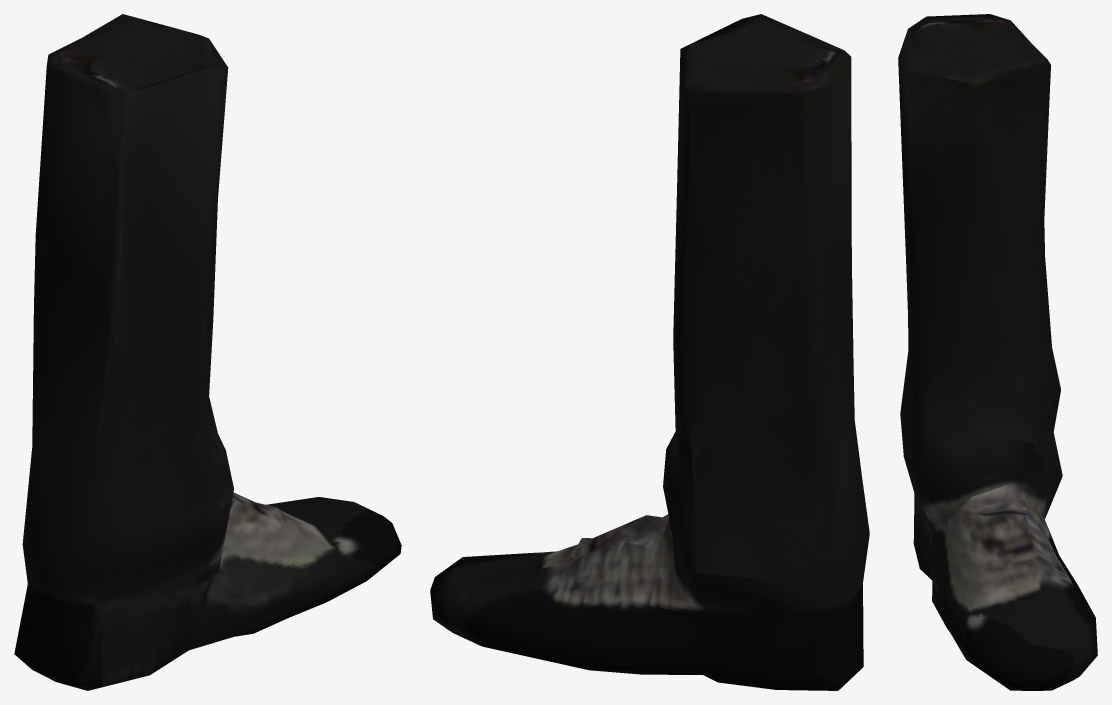
File: rodilla-izquierda-ca.obj
3 renders of one model, left to right at view 1: azimuth 30°, elevation 25°; view 2: azimuth 150°, elevation 25°; view 3: azimuth 270°, elevation 25°, orthographic. The views are drawn at different scales.
Visible parts, largest first — view 1: model.059; view 2: model.059; view 3: model.059.
Part boxes in pixels (left/top/right/bottom): model.059: left=14, top=14, right=401, bottom=690; model.059: left=430, top=14, right=869, bottom=690; model.059: left=898, top=14, right=1097, bottom=690.
Size of the model in its own units: 0.0841 by 0.1245 by 0.0416.
1 material, 1 textured.
